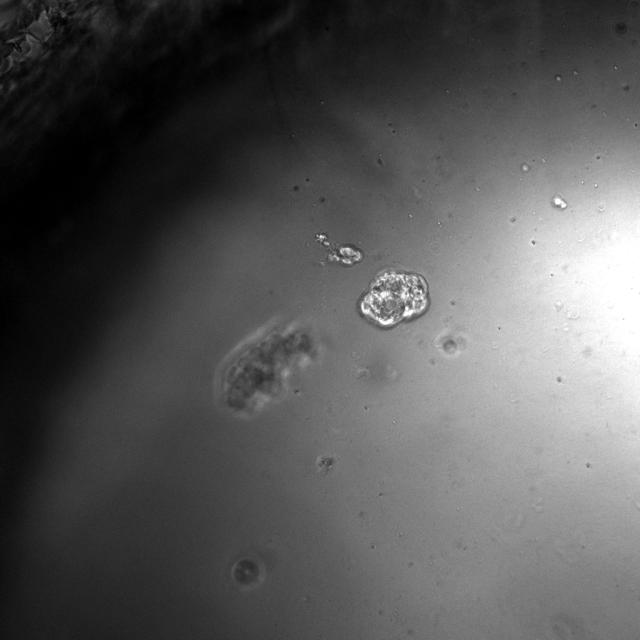organoid: (216, 323, 319, 418), (358, 269, 429, 328), (316, 232, 363, 266), (230, 555, 266, 590), (317, 455, 334, 473), (442, 339, 457, 354)
